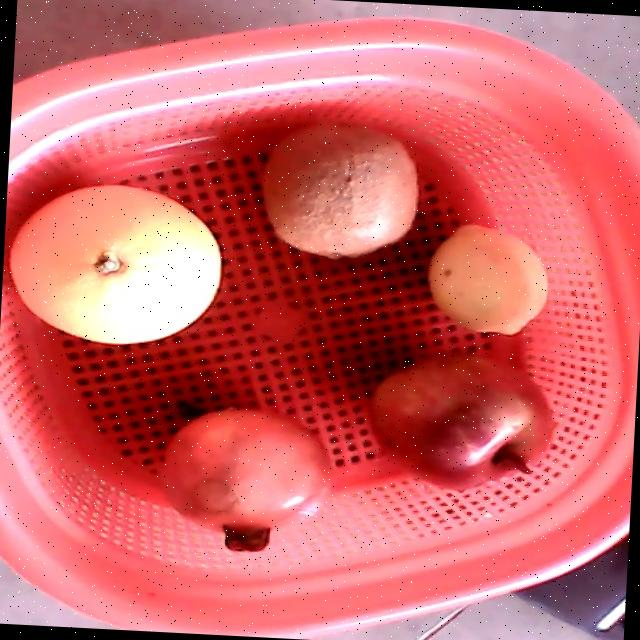apple: (364, 355, 554, 490)
kiwi: (261, 120, 417, 259)
lemon: (428, 225, 546, 335)
orange: (8, 184, 221, 345)
pomegranate: (158, 409, 332, 553)
